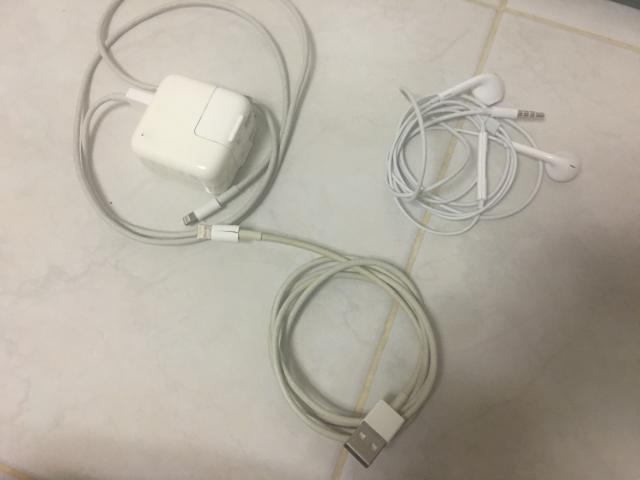wire: (74, 0, 314, 245), (198, 225, 438, 468), (386, 74, 580, 235)
